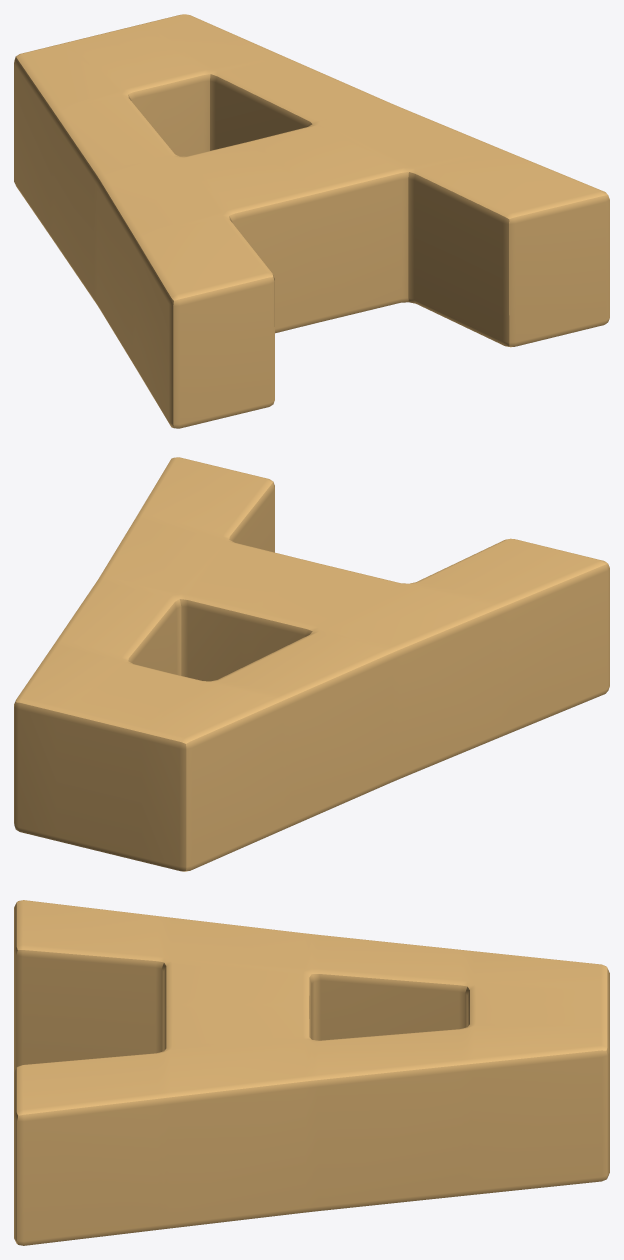
3 renders of one model, top to bottom at view 1: azimuth 30°, elevation 25°; view 2: azimuth 150°, elevation 25°; view 3: azimuth 270°, elevation 25°, orthographic.
Visible parts, largest first — view 1: pCube1; view 2: pCube1; view 3: pCube1.
Part boxes in pixels (left/top/right/bottom): pCube1: left=14, top=14, right=609, bottom=428; pCube1: left=14, top=457, right=609, bottom=871; pCube1: left=14, top=900, right=609, bottom=1245.
Bounding box in the file's own units: 3.43 × 1 × 3.98.
